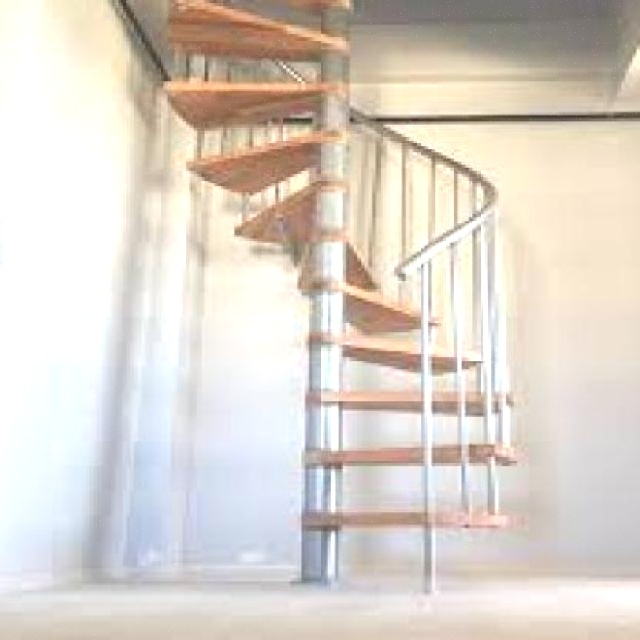stair: (138, 0, 539, 582)
